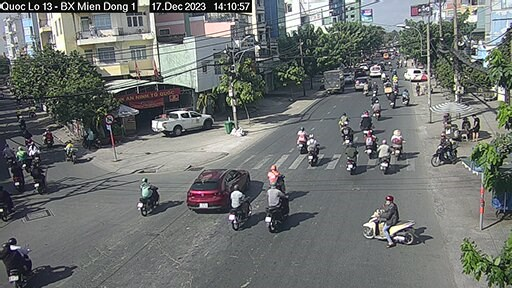car: (151, 108, 217, 144), (192, 168, 246, 208), (352, 74, 373, 92), (406, 68, 422, 83), (370, 62, 382, 78)
motorbike: (361, 199, 416, 251), (4, 238, 33, 283), (264, 185, 288, 234), (135, 177, 161, 218), (230, 190, 250, 232), (341, 141, 362, 177), (357, 114, 380, 145), (293, 121, 310, 153), (32, 166, 48, 195), (378, 146, 392, 175), (307, 137, 319, 166), (392, 127, 403, 158), (343, 124, 356, 146), (388, 90, 396, 106)
truck: (323, 68, 345, 97)
